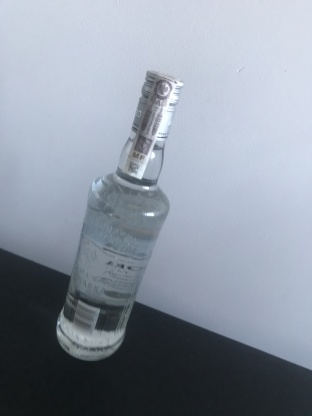nakretka: (130, 67, 185, 143)
